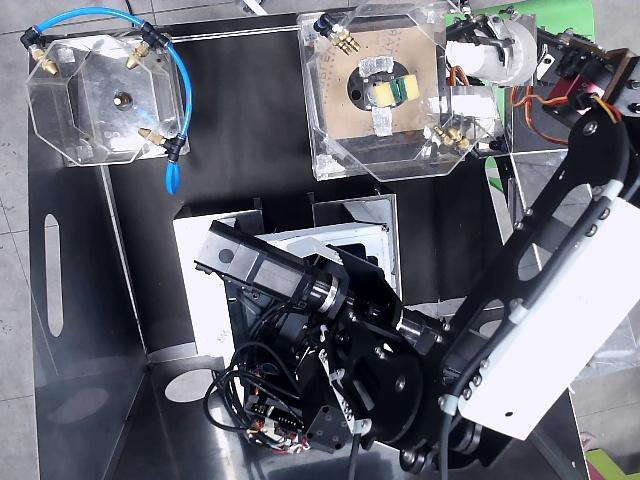cup: (446, 14, 537, 86)
